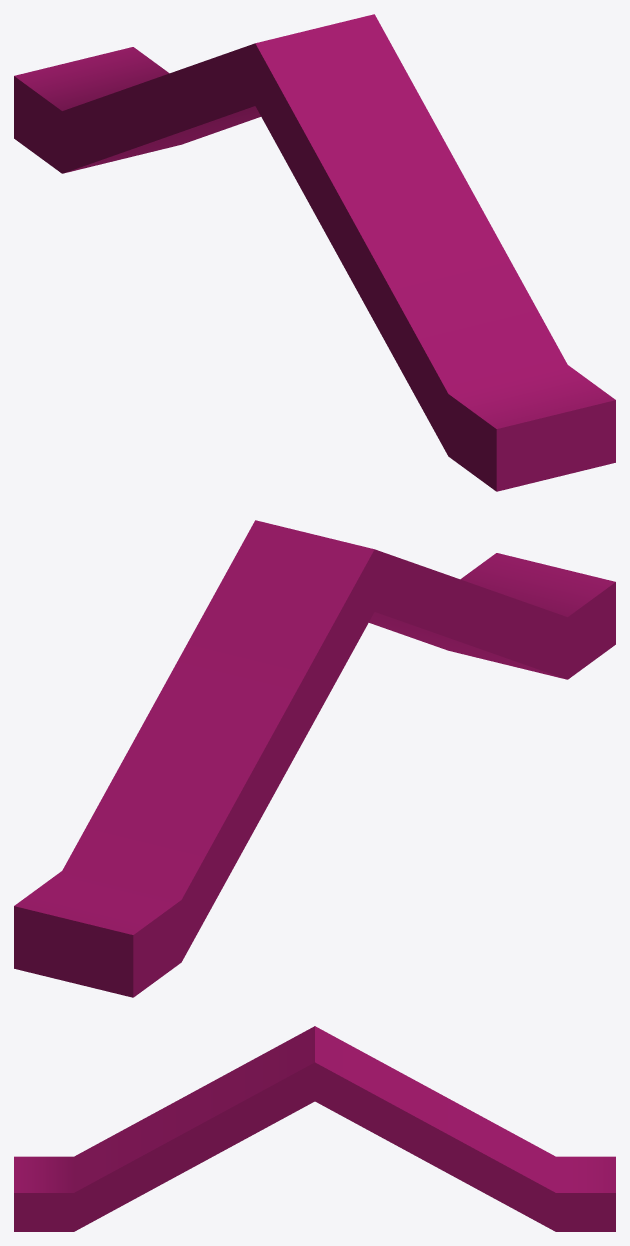
File: Grave_Up_01.fbx
3 views of the same model, one above another, from view 1: azimuth 30°, elevation 25°; view 2: azimuth 150°, elevation 25°; view 3: azimuth 270°, elevation 25° (orthographic). The views are drawn at different scales.
Parts seen in each view (by area): view 1: Grave_Up_01; view 2: Grave_Up_01; view 3: Grave_Up_01.
Boxes of the visible parts, x1=… form: Grave_Up_01: x1=14, y1=14, x2=615, y2=491; Grave_Up_01: x1=14, y1=520, x2=615, y2=997; Grave_Up_01: x1=14, y1=1026, x2=615, y2=1231.
Size of the model in its own units: 1.51 by 3.29 by 10.6.
